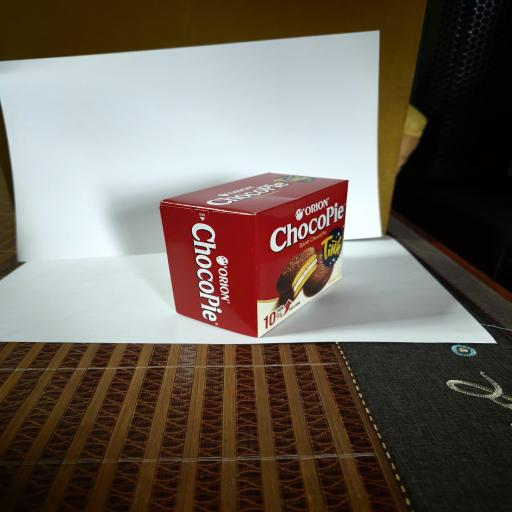chocopie: (160, 172, 348, 338)
